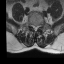CCS_normal: (35, 24, 37, 33)
LFS_normal: (38, 22, 41, 29)
LLS_normal: (36, 23, 38, 31)
RFS_normal: (31, 22, 33, 28)
RLS_normal: (33, 23, 35, 31)
